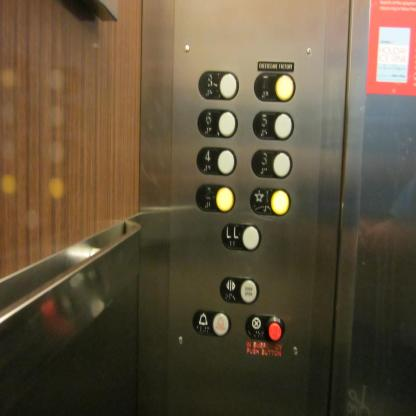1: (250, 186, 291, 216)
2: (196, 184, 236, 212)
3: (250, 150, 292, 178)
4: (196, 147, 237, 176)
5: (252, 111, 295, 141)
6: (197, 108, 238, 139)
7: (254, 72, 296, 102)
8: (198, 71, 240, 100)
LL: (222, 223, 262, 251)
alarm: (193, 308, 232, 338)
open: (220, 275, 262, 306)
stop: (246, 313, 286, 343)
